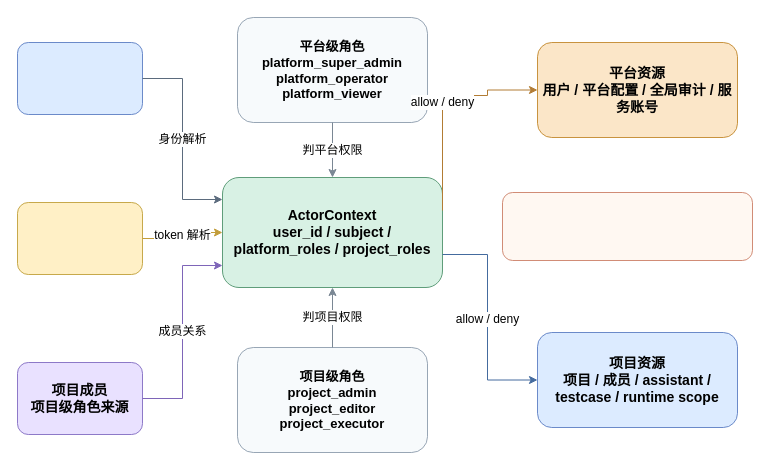
Some shapes in this 770 by 470 pixel diagram are drawn without their labels. Here are the shapes that lost their labels. From the top down, the centre of each, then its label:
At (79,78): "普通用户 平台登录主体".
At (79,238): "服务账号 机器身份 / token".
At (627,226): "铁律：平台角色不替代项目归属，项目角色不提升为平台角色".
